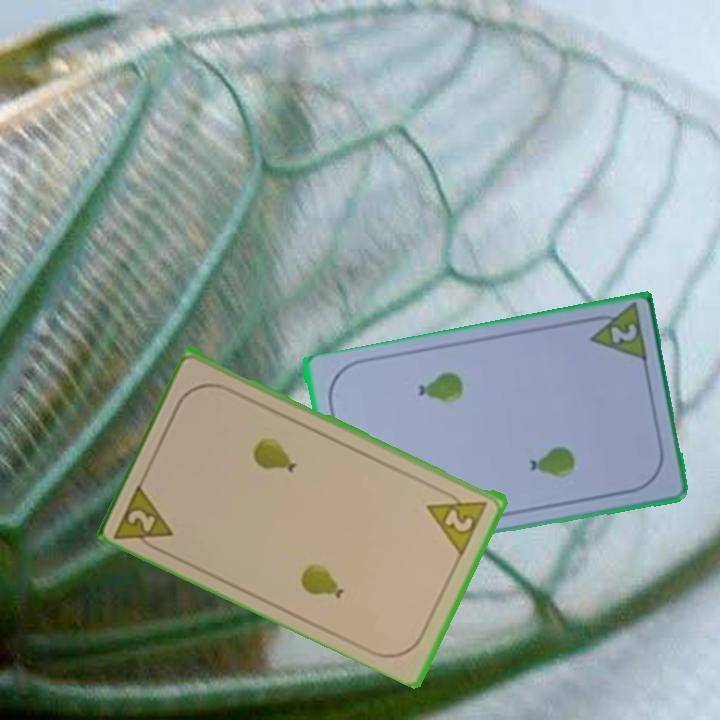2p: (111, 477, 178, 557), (424, 485, 491, 556), (581, 302, 650, 367)
